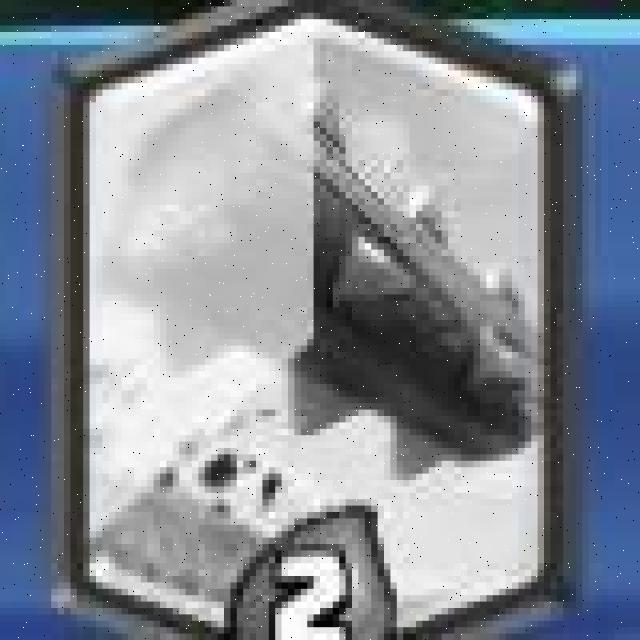Log: (68, 1, 589, 640)
